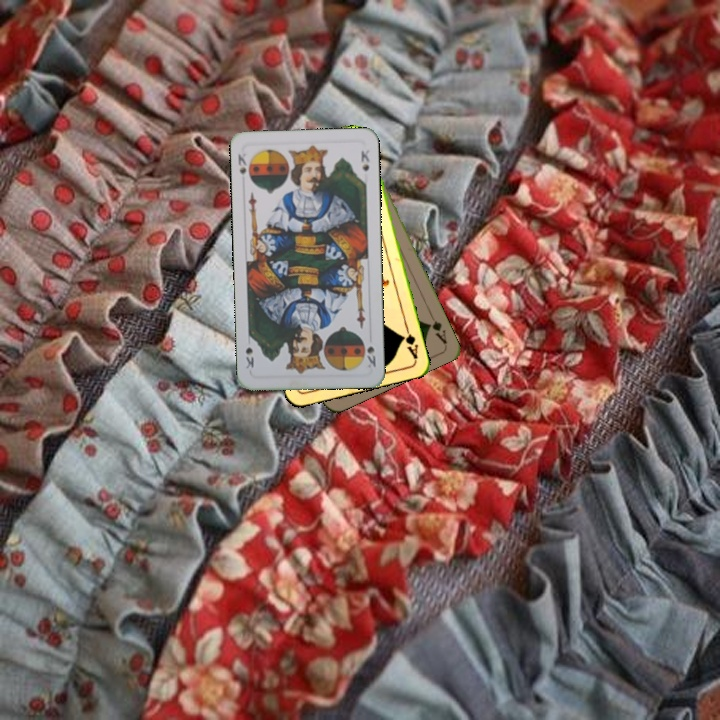GA: (424, 308, 449, 346), (398, 321, 421, 361)
SK: (363, 342, 378, 370), (234, 149, 249, 177)
